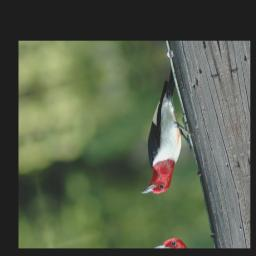Woodpecker: (115, 60, 208, 199)
